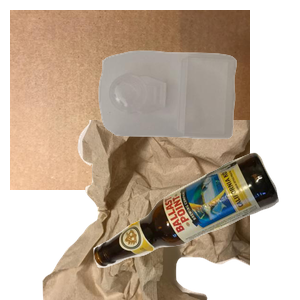cardboard: (10, 10, 250, 190)
glass: (91, 150, 300, 300)
plastic: (96, 48, 300, 179)
trash: (40, 120, 280, 300)
